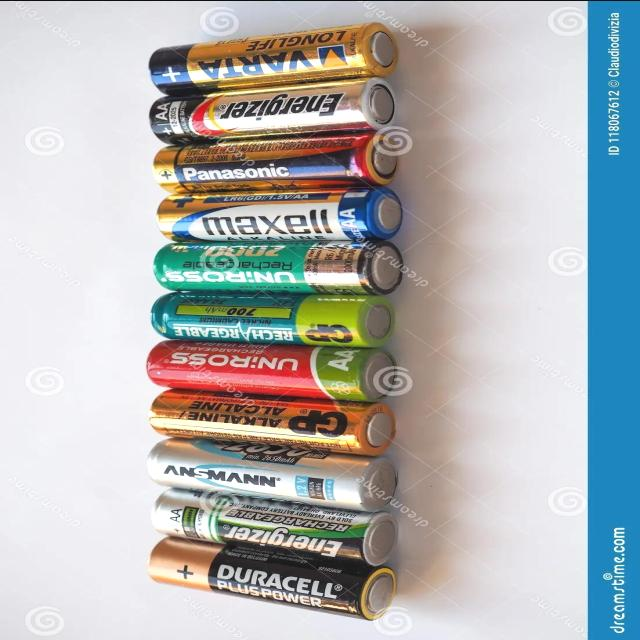AA: (145, 534, 402, 623), (146, 485, 404, 568), (144, 17, 407, 94), (142, 435, 402, 512), (144, 73, 408, 145), (146, 386, 402, 457), (145, 128, 408, 193), (142, 337, 402, 402), (150, 185, 409, 241), (146, 290, 400, 347), (148, 238, 408, 293)
